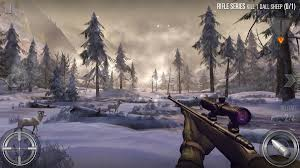gun: (165, 93, 297, 166)
